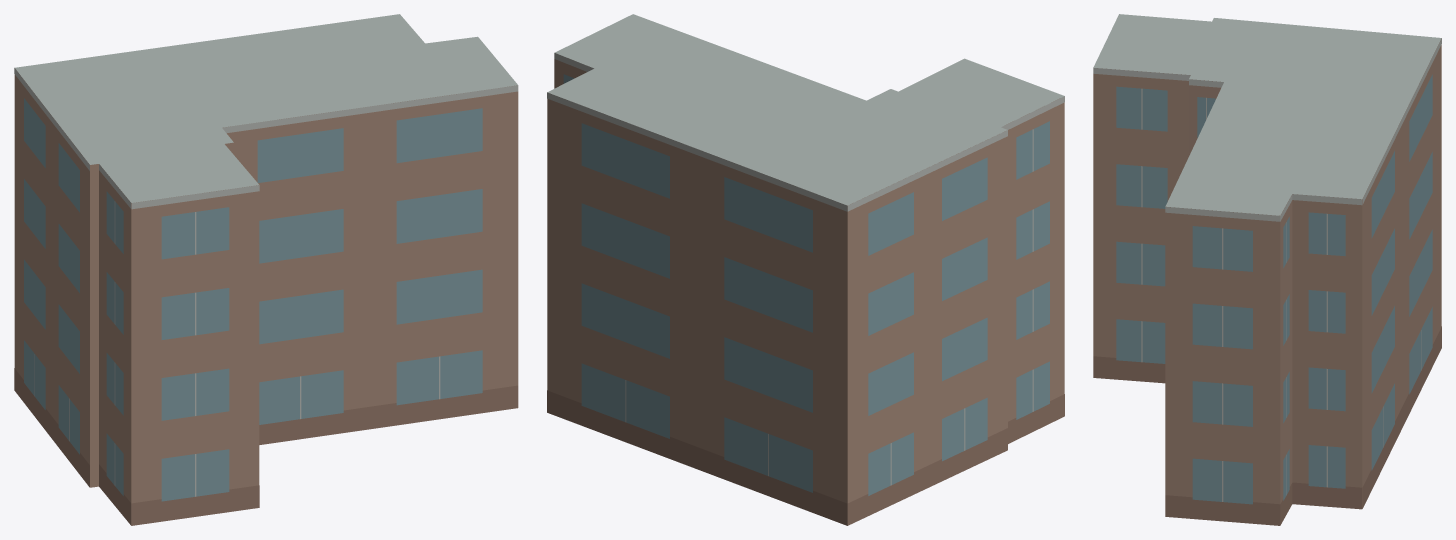
Rendered from survey-upis-32870812.glb.
3 views of the same model, side by side, from view 1: azimuth 30°, elevation 25°; view 2: azimuth 150°, elevation 25°; view 3: azimuth 270°, elevation 25° (orthographic). The views are drawn at different scales.
Parts seen in each view (by area): view 1: survey-upis-32870812.tmp; view 2: survey-upis-32870812.tmp; view 3: survey-upis-32870812.tmp.
Boxes of the visible parts, x1,y1,x2,y2 form: survey-upis-32870812.tmp: [14, 14, 518, 525]; survey-upis-32870812.tmp: [547, 14, 1064, 525]; survey-upis-32870812.tmp: [1093, 14, 1441, 525].
Bounding box in the file's own units: 17.57 × 12.58 × 12.82.
